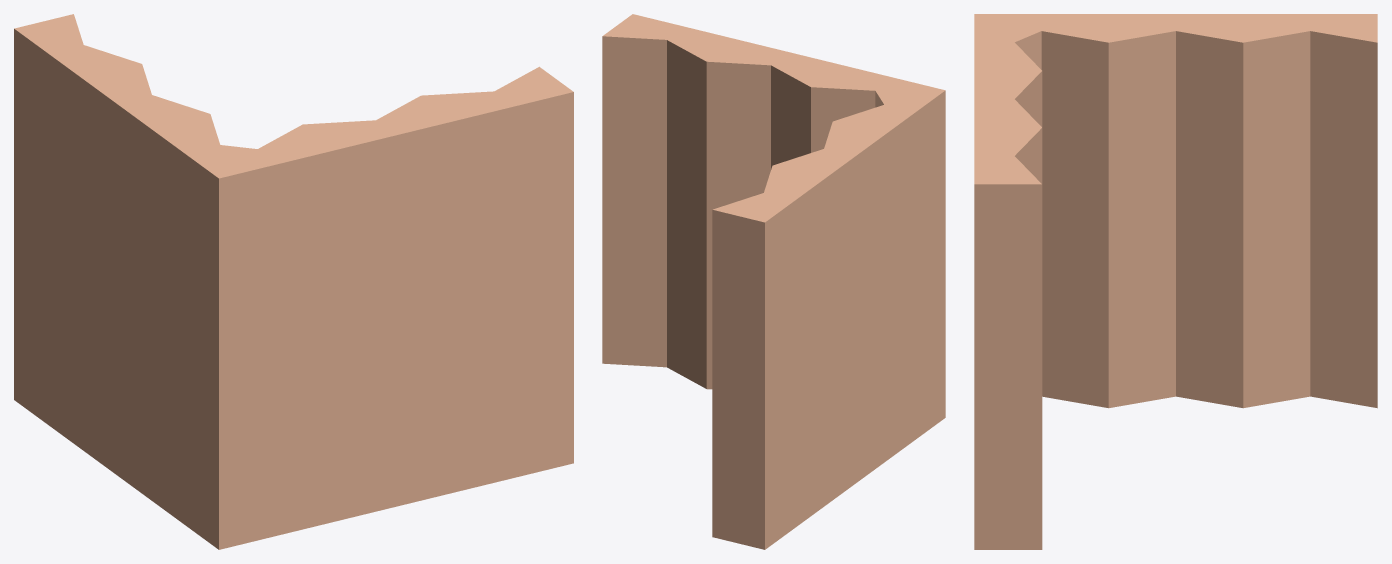
File: cliff_cornerInner_rock.glb
3 renders of one model, left to right at view 1: azimuth 30°, elevation 25°; view 2: azimuth 150°, elevation 25°; view 3: azimuth 270°, elevation 25°, orthographic. The views are drawn at different scales.
Parts seen in each view (by area): view 1: cliff_cornerInner_rock; view 2: cliff_cornerInner_rock; view 3: cliff_cornerInner_rock.
Part boxes in pixels (x1,y1,x2,y2): cliff_cornerInner_rock: (14,14,573,549); cliff_cornerInner_rock: (602,14,945,549); cliff_cornerInner_rock: (974,14,1377,549).
Bounding box in the file's own units: 1.16 × 1.16 × 1.16.
